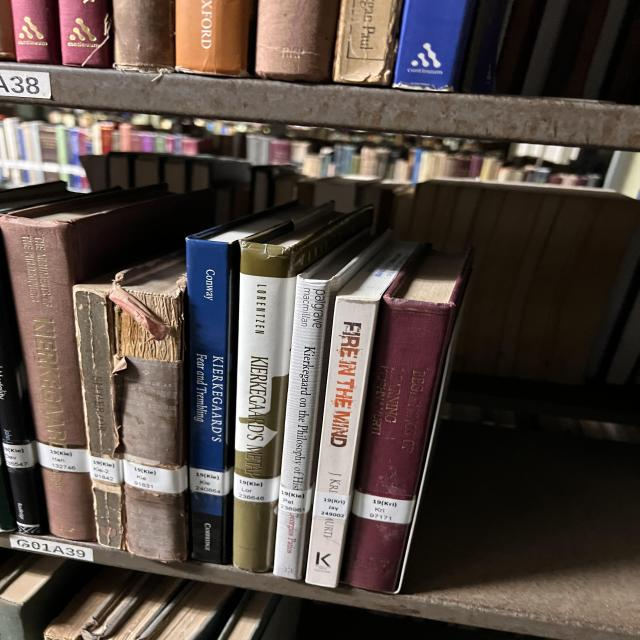Book: (0, 186, 213, 541), (233, 204, 373, 571), (187, 202, 312, 564), (343, 246, 472, 592), (305, 242, 418, 588), (273, 234, 375, 580), (73, 280, 125, 550)
Label: (123, 460, 188, 494), (352, 490, 415, 524), (37, 442, 90, 472), (233, 474, 280, 502), (190, 468, 233, 496), (313, 491, 350, 520), (88, 456, 123, 484), (278, 486, 313, 514)
